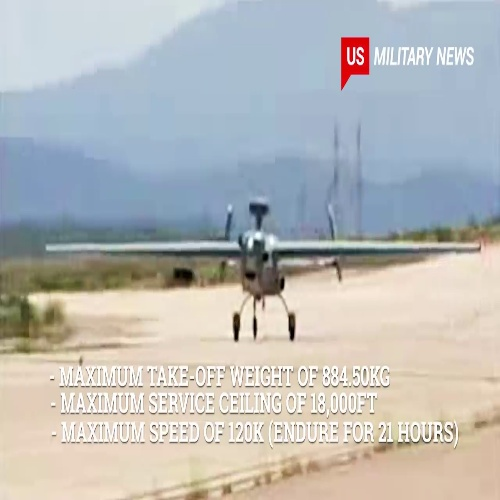uav237: (44, 196, 482, 341)
